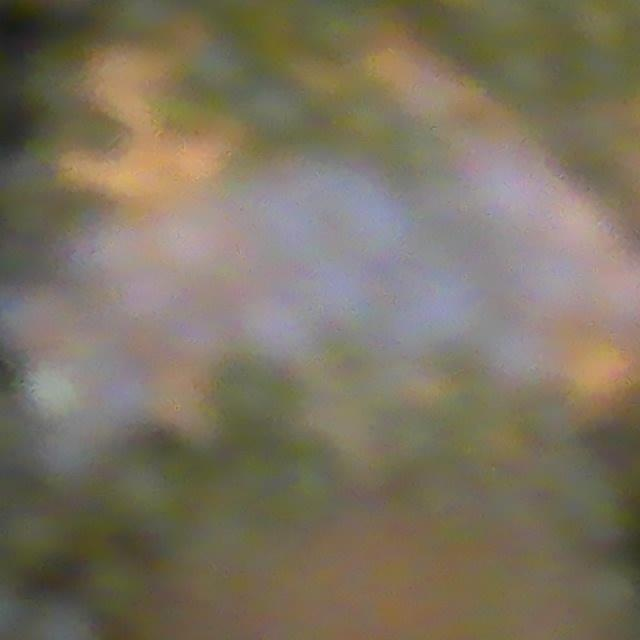SeaGrape: (71, 222, 154, 307), (312, 259, 395, 343), (397, 261, 475, 350), (0, 279, 61, 356), (252, 293, 312, 366), (535, 226, 595, 293), (508, 166, 585, 216), (486, 329, 549, 386), (22, 363, 79, 416), (605, 266, 640, 329)
